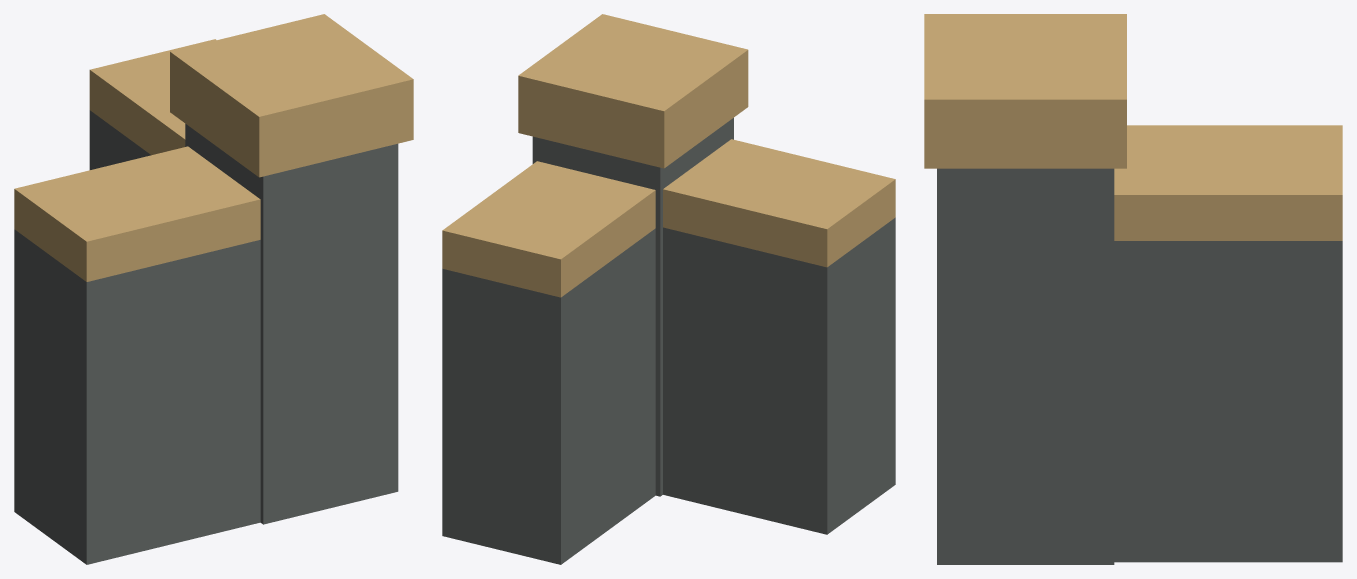
Rendered from SmartWallCorner.fbx.
3 views of the same model, side by side, from view 1: azimuth 30°, elevation 25°; view 2: azimuth 150°, elevation 25°; view 3: azimuth 270°, elevation 25° (orthographic). The views are drawn at different scales.
Visible parts, largest first — view 1: SmartWallCorner; view 2: SmartWallCorner; view 3: SmartWallCorner.
Part boxes in pixels (x1,y1,x2,y2): SmartWallCorner: [14, 14, 413, 564]; SmartWallCorner: [442, 14, 895, 564]; SmartWallCorner: [924, 14, 1342, 564].
Size of the model in its own units: 66 by 82 by 66.
